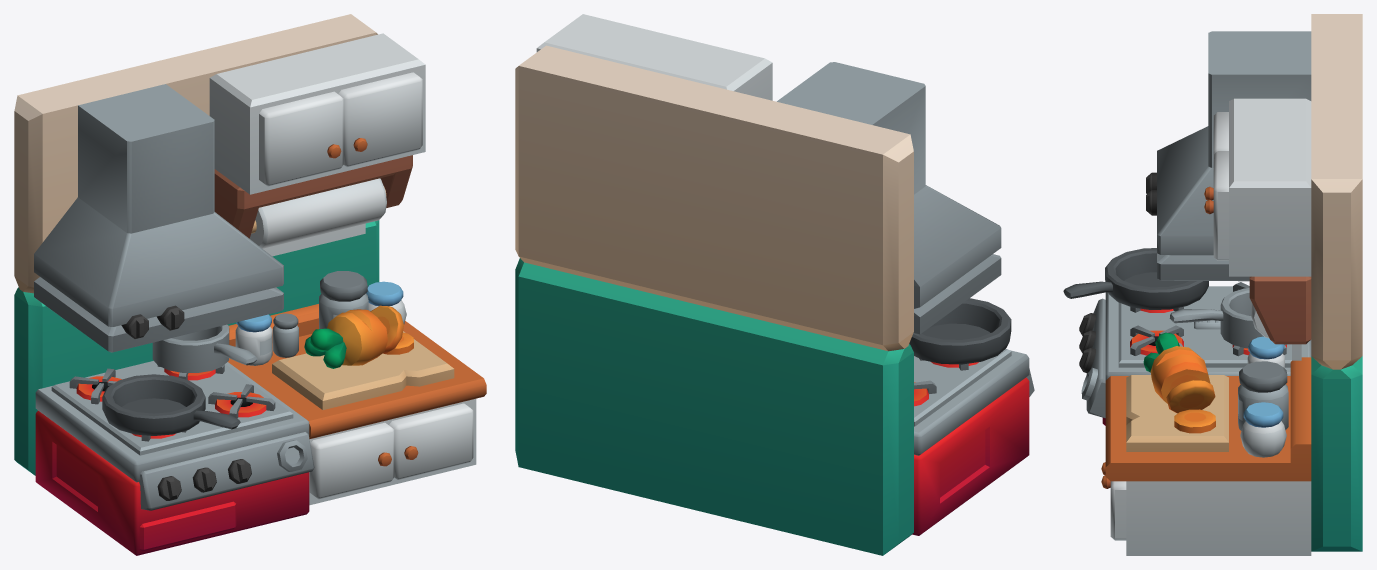
Rendered from wall.glb.
3 views of the same model, side by side, from view 1: azimuth 30°, elevation 25°; view 2: azimuth 150°, elevation 25°; view 3: azimuth 270°, elevation 25° (orthographic). The views are drawn at different scales.
Visible parts, largest first — view 1: wall_decorated; view 2: wall_decorated; view 3: wall_decorated.
Part boxes in pixels (box(x1,y1,x2,y2)): wall_decorated: box(14, 14, 486, 555); wall_decorated: box(515, 14, 1034, 555); wall_decorated: box(1063, 14, 1362, 555).
Size of the model in its own units: 4.01 by 4 by 2.91.
Materials: 1 (1 with a texture image).
